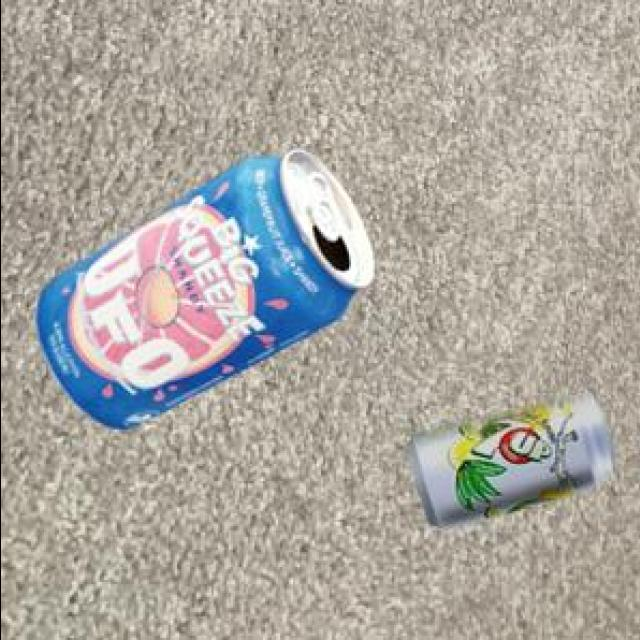logam: (38, 147, 377, 426), (411, 392, 617, 525)
